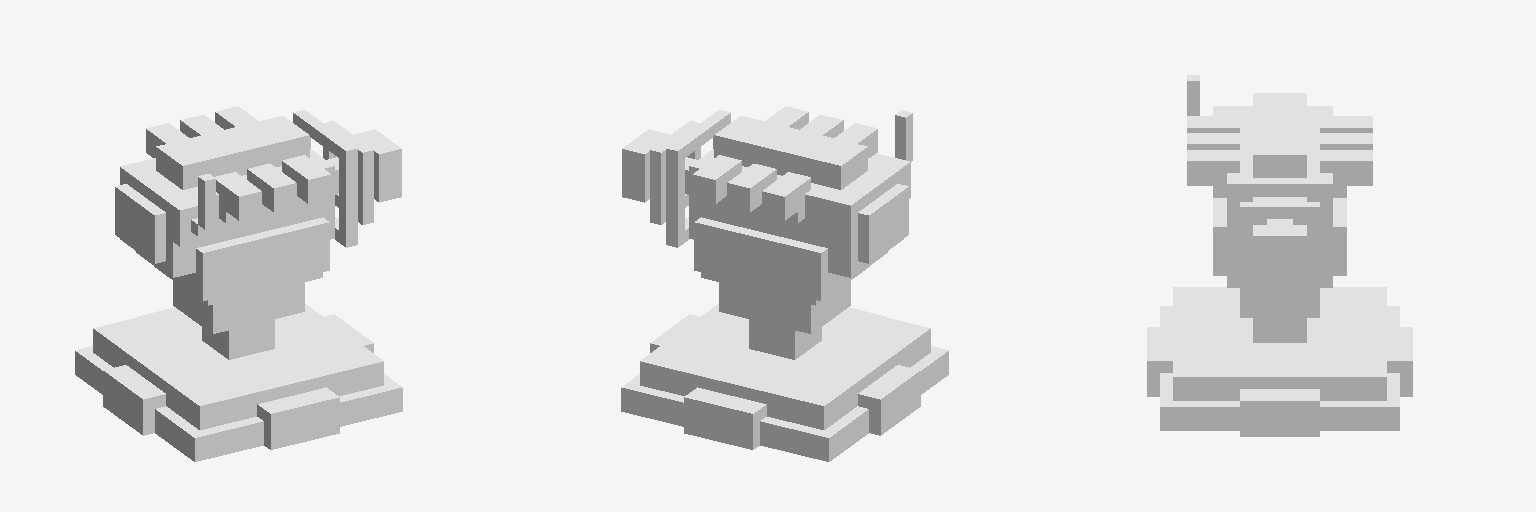
Rendered from Turret(Tower_Defens)-4.obj.
3 renders of one model, left to right at view 1: azimuth 30°, elevation 25°; view 2: azimuth 150°, elevation 25°; view 3: azimuth 270°, elevation 25°, orthographic.
Visible parts, largest first — view 1: object 1; view 2: object 1; view 3: object 1.
Part boxes in pixels (x1,y1,x2,y2): object 1: (75,106,402,461); object 1: (621,106,948,461); object 1: (1147,75,1412,436).
Bounding box in the file's own units: 2.3 × 2.2 × 2.